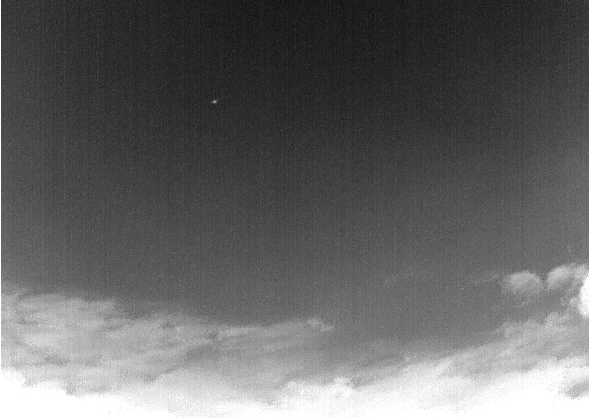dim target: (210, 98, 216, 104)
